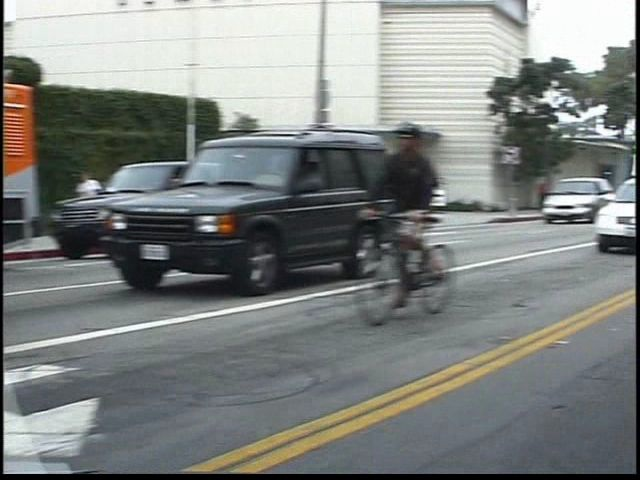person: (405, 116, 475, 311), (98, 169, 128, 242), (552, 171, 574, 219)
